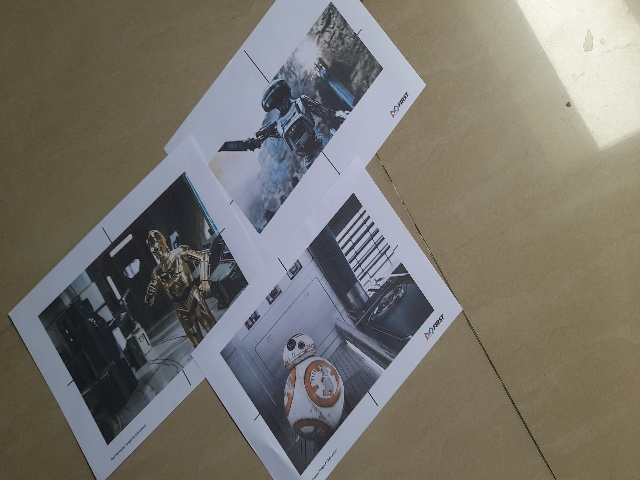bpt1: (215, 218, 444, 480)
bpt2: (179, 7, 411, 222)
rpt1: (21, 175, 235, 441)
